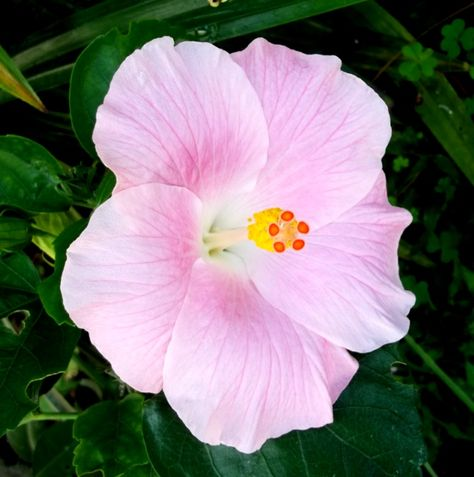Hibiscus: (62, 12, 446, 453)
